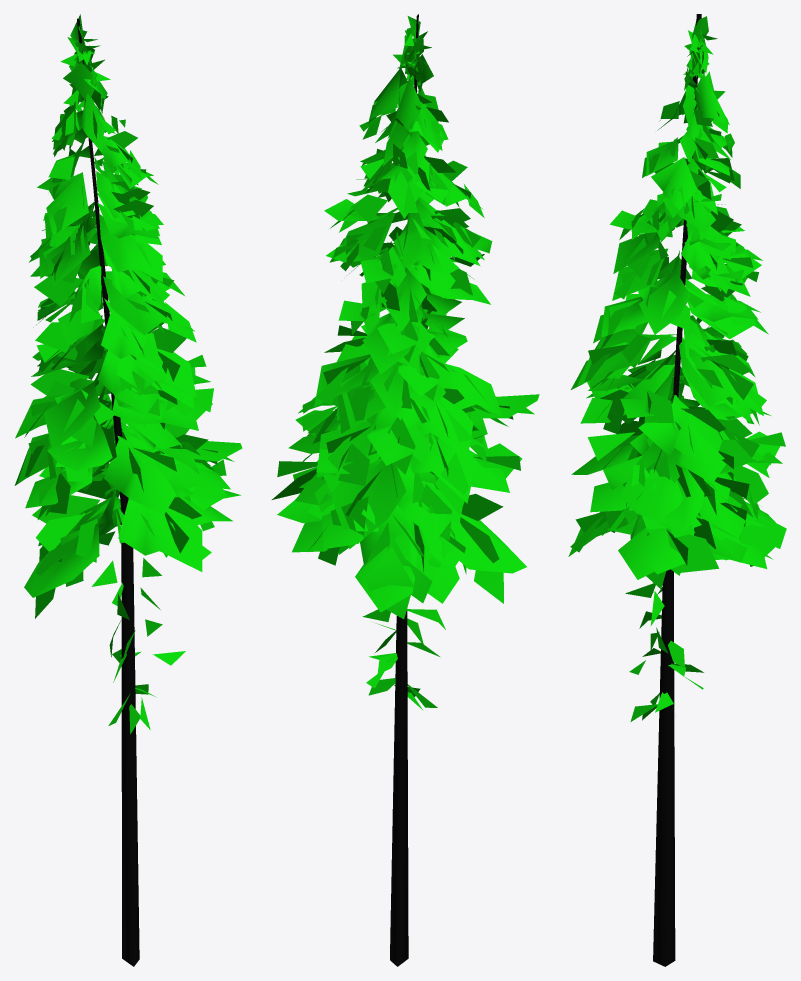
File: SM_Bush_001.fbx
3 views of the same model, side by side, from view 1: azimuth 30°, elevation 25°; view 2: azimuth 150°, elevation 25°; view 3: azimuth 270°, elevation 25° (orthographic). The views are drawn at different scales.
Parts seen in each view (by area): view 1: bush_001_LOD0; view 2: bush_001_LOD0; view 3: bush_001_LOD0.
Part boxes in pixels (x1=…): bush_001_LOD0: x1=14, y1=14, x2=242, y2=966; bush_001_LOD0: x1=272, y1=14, x2=539, y2=966; bush_001_LOD0: x1=568, y1=14, x2=786, y2=966.
Size of what is drawn, in the model's own units: 507 by 2090 by 444.
